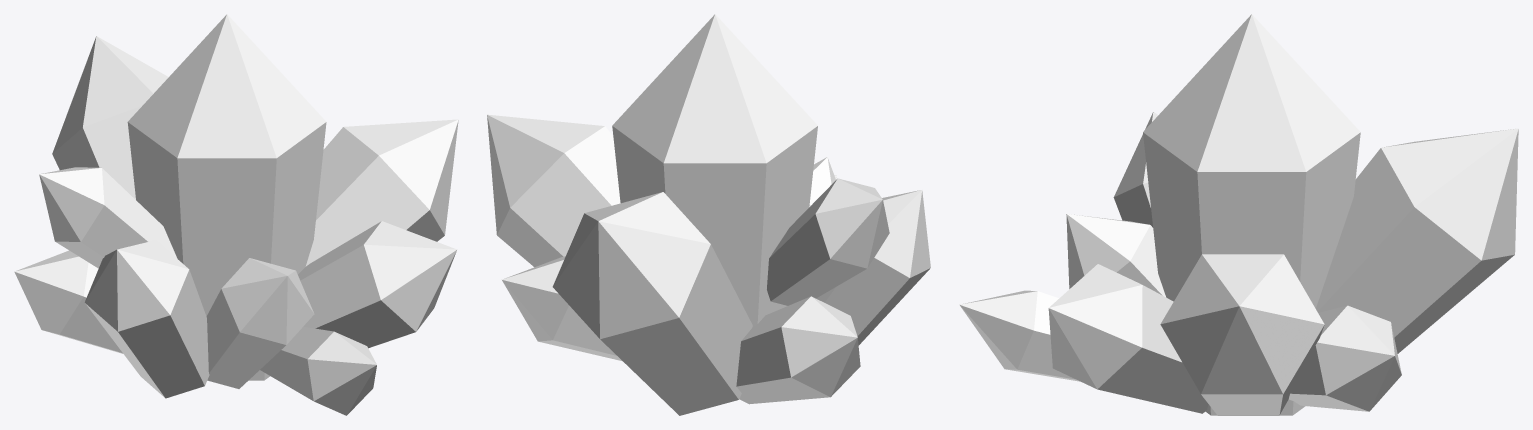
The model's file is Ice_Crystal.fbx.
3 views of the same model, side by side, from view 1: azimuth 30°, elevation 25°; view 2: azimuth 150°, elevation 25°; view 3: azimuth 270°, elevation 25° (orthographic). The views are drawn at different scales.
Parts seen in each view (by area): view 1: Crystal, Crystal.004, Crystal.008, Crystal.003, Crystal.002, Crystal.001, Crystal.007, Crystal.009, Crystal.005; view 2: Crystal, Crystal.001, Crystal.004, Crystal.005, Crystal.007, Crystal.003, Crystal.006, Crystal.002; view 3: Crystal, Crystal.001, Crystal.004, Crystal.008, Crystal.006, Crystal.009, Crystal.002, Crystal.003.
Boxes of the visible parts, left/top/right/bottom form: Crystal: left=127, top=14, right=326, bottom=380; Crystal.004: left=305, top=119, right=458, bottom=266; Crystal.008: left=298, top=221, right=456, bottom=348; Crystal.003: left=84, top=240, right=209, bottom=398; Crystal.002: left=206, top=258, right=314, bottom=388; Crystal.001: left=52, top=36, right=168, bottom=199; Crystal.007: left=39, top=167, right=177, bottom=268; Crystal.009: left=260, top=326, right=376, bottom=415; Crystal.005: left=14, top=250, right=123, bottom=353; Crystal: left=612, top=14, right=817, bottom=327; Crystal.001: left=552, top=192, right=752, bottom=415; Crystal.004: left=487, top=114, right=620, bottom=267; Crystal.005: left=736, top=296, right=860, bottom=404; Crystal.007: left=767, top=178, right=889, bottom=305; Crystal.003: left=816, top=190, right=930, bottom=345; Crystal.006: left=502, top=256, right=622, bottom=361; Crystal.002: left=809, top=157, right=835, bottom=206; Crystal: left=1143, top=14, right=1360, bottom=415; Crystal.001: left=1316, top=128, right=1518, bottom=353; Crystal.004: left=1160, top=254, right=1324, bottom=415; Crystal.008: left=1048, top=264, right=1208, bottom=413; Crystal.006: left=1288, top=305, right=1401, bottom=411; Crystal.009: left=959, top=290, right=1079, bottom=381; Crystal.002: left=1066, top=214, right=1166, bottom=297; Crystal.003: left=1113, top=112, right=1158, bottom=227.
Size of the model in its own units: 528 by 446 by 582.
